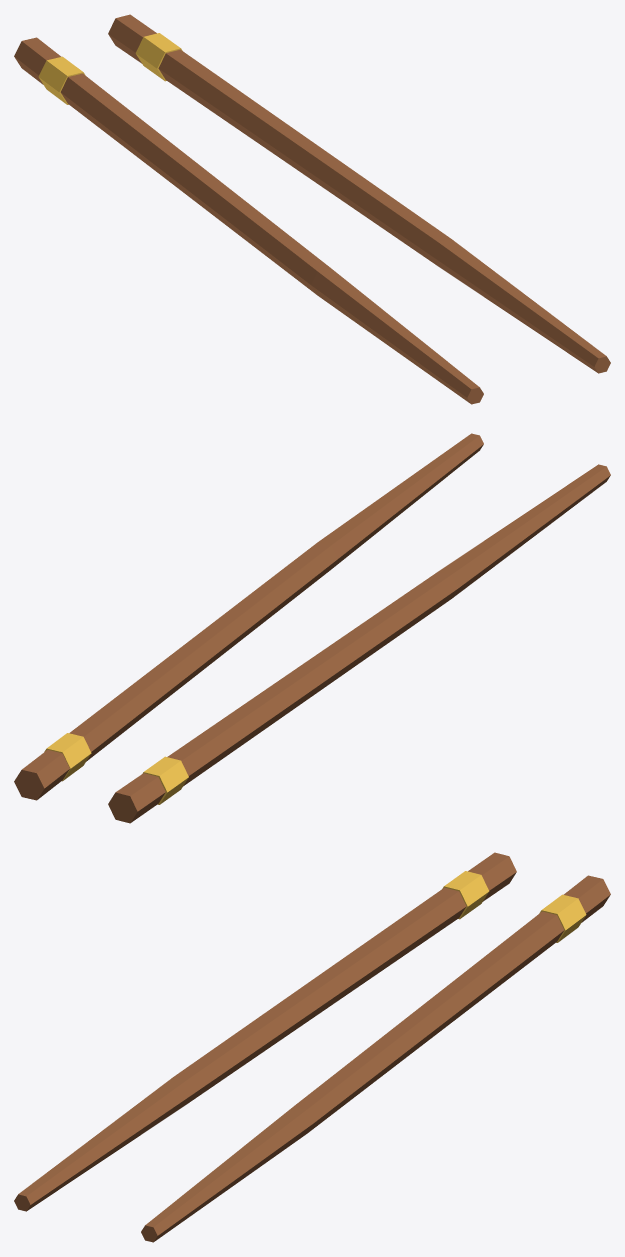
Rendered from chopsticks.glb.
3 renders of one model, top to bottom at view 1: azimuth 30°, elevation 25°; view 2: azimuth 150°, elevation 25°; view 3: azimuth 330°, elevation 25°, orthographic.
Parts seen in each view (by area): view 1: chopsticks; view 2: chopsticks; view 3: chopsticks.
Part boxes in pixels (x1,y1,x2,y2): chopsticks: [14, 14, 610, 404]; chopsticks: [14, 433, 610, 823]; chopsticks: [14, 852, 610, 1242].
Size of the model in its own units: 0.044 by 0.00831 by 0.2401.
